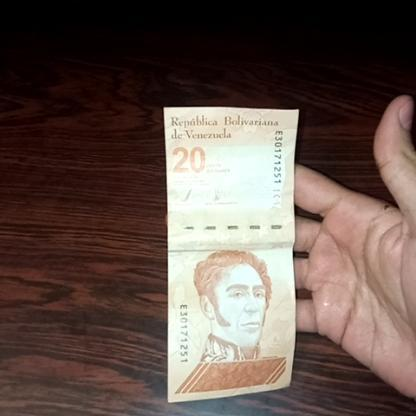twenty-front-vef: (164, 106, 296, 404)
